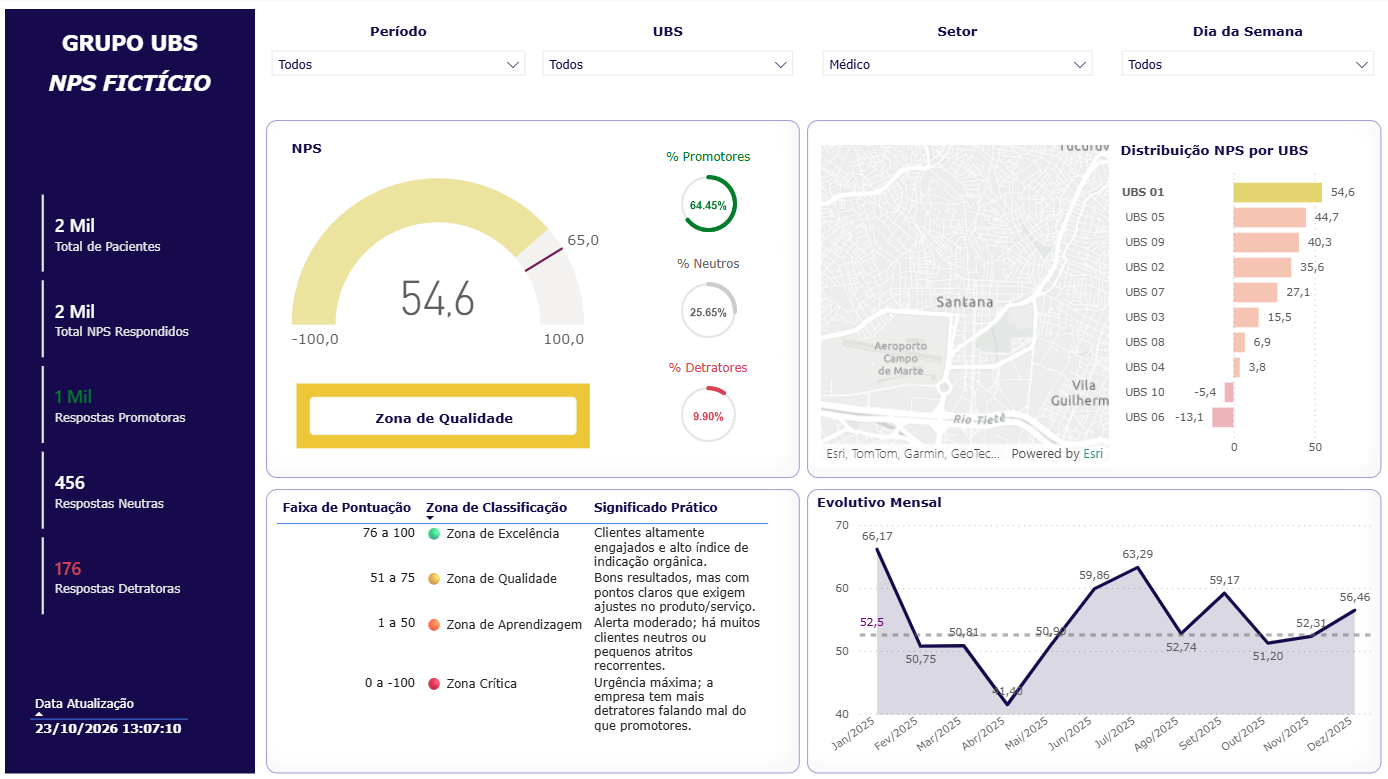

This screenshot's page, from the dashboard's own definition file:
{"tool":"powerbi","page":{"name":"Gerencial","canvas":[1280,720],"ordinal":0},"visuals":[{"type":"shape","box":[740.1,112,523.5,325.9],"z":0},{"type":"shape","box":[247.6,112,486.1,325.9],"z":1000},{"type":"shape","box":[10,10.9,227.6,696.4],"z":2000},{"type":"slicer","title":"UBS","fields":{"Values":["DIM_UBS.Zona","DIM_UBS.Bairro","DIM_UBS.Nome UBS"]},"box":[493.4,13.7,240,90],"z":3000},{"type":"gauge","fields":{"Y":["@Medidas.NPS"]},"box":[265.8,130.2,295.9,213.9],"z":4000},{"type":"clusteredBarChart","title":"Distribuição NPS por UBS","fields":{"Category":["DIM_UBS.Nome UBS"],"Y":["@Medidas.NPS"]},"box":[1020.5,132,230.3,294.1],"z":5000},{"type":"cardVisual","fields":{"Data":["@Medidas.Total de Pacientes","@Medidas.Total NPS Respondidos","@Medidas.Promotores","@Medidas.Neutros","@Medidas.Detratores"]},"box":[26.4,163,194.8,420.6],"z":6000},{"type":"tableEx","fields":{"Values":["DIM_NPS_LEGENDA.Faixa de Pontuação","DIM_NPS_LEGENDA.Zona de Classificação","DIM_NPS_LEGENDA.Significado Prático"]},"box":[247.6,447.9,486.1,259.5],"z":7000},{"type":"textbox","box":[14.6,25.5,217.6,78.3],"z":8000},{"type":"slicer","title":"Setor","fields":{"Values":["FATO_NPS.setor"]},"box":[748.3,13.7,257.6,90.1],"z":9000},{"type":"areaChart","title":"Evolutivo Mensal","fields":{"Category":["DIM_CALENDARIO.Mês/Ano"],"Y":["@Medidas.NPS"]},"box":[740.1,447.9,523.5,259.5],"z":10000},{"type":"slicer","title":"Período","fields":{"Values":["DIM_CALENDARIO.Ano","DIM_CALENDARIO.Mês/Ano"]},"box":[246.7,13.5,243.1,90.1],"z":11000},{"type":"slicer","title":"Dia da Semana","fields":{"Values":["DIM_CALENDARIO.Dia da Semana"]},"box":[1020.5,13.5,242,90],"z":12000},{"type":"payPalKPIDonutChart55A431AB15A540ED924ACD72ED8D259F","fields":{"myvalue":["@Medidas.% Promotores"]},"box":[581.7,138.4,136.6,85.6],"z":13000},{"type":"payPalKPIDonutChart55A431AB15A540ED924ACD72ED8D259F","fields":{"myvalue":["@Medidas.% Neutros"]},"box":[581.7,235.8,136.6,85.6],"z":14000},{"type":"payPalKPIDonutChart55A431AB15A540ED924ACD72ED8D259F","fields":{"myvalue":["@Medidas.% Detratores"]},"box":[581.7,330.5,136.6,85.6],"z":15000},{"type":"esriVisual","title":"Localização","fields":{"Location":["DIM_UBS.Endereço Completo"],"Size":["@Medidas.NPS"]},"box":[748.3,130.2,272.2,297.7],"z":16000},{"type":"tableEx","fields":{"Values":["DATA_ATUALIZAÇÃO.Data_Atualizacao"]},"box":[26.4,630,182.1,61.9],"z":17000},{"type":"cardVisual","fields":{"Data":["@Medidas.Zona_NPS"]},"box":[270.4,346.9,277.7,69.2],"z":18000}]}

Visuals, with their boxes in screenshot pixels (x1, y1, x2, y2), scaled from the page's 1280x720 canvas onto the 1388x779 screenshot:
shape: {"left": 803, "top": 121, "right": 1370, "bottom": 474}
shape: {"left": 268, "top": 121, "right": 796, "bottom": 474}
shape: {"left": 11, "top": 12, "right": 258, "bottom": 765}
"UBS" slicer: {"left": 535, "top": 15, "right": 795, "bottom": 112}
gauge - @Medidas.NPS: {"left": 288, "top": 141, "right": 609, "bottom": 372}
"Distribuição NPS por UBS" clusteredBarChart: {"left": 1107, "top": 143, "right": 1356, "bottom": 461}
cardVisual - @Medidas.Total de Pacientes x @Medidas.Total NPS Respondidos: {"left": 29, "top": 176, "right": 240, "bottom": 631}
tableEx - DIM_NPS_LEGENDA.Faixa de Pontuação x DIM_NPS_LEGENDA.Zona de Classificação: {"left": 268, "top": 485, "right": 796, "bottom": 765}
textbox: {"left": 16, "top": 28, "right": 252, "bottom": 112}
"Setor" slicer: {"left": 811, "top": 15, "right": 1091, "bottom": 112}
"Evolutivo Mensal" areaChart: {"left": 803, "top": 485, "right": 1370, "bottom": 765}
"Período" slicer: {"left": 268, "top": 15, "right": 531, "bottom": 112}
"Dia da Semana" slicer: {"left": 1107, "top": 15, "right": 1369, "bottom": 112}
payPalKPIDonutChart55A431AB15A540ED924ACD72ED8D259F - @Medidas.% Promotores: {"left": 631, "top": 150, "right": 779, "bottom": 242}
payPalKPIDonutChart55A431AB15A540ED924ACD72ED8D259F - @Medidas.% Neutros: {"left": 631, "top": 255, "right": 779, "bottom": 348}
payPalKPIDonutChart55A431AB15A540ED924ACD72ED8D259F - @Medidas.% Detratores: {"left": 631, "top": 358, "right": 779, "bottom": 450}
"Localização" esriVisual: {"left": 811, "top": 141, "right": 1107, "bottom": 463}
tableEx - DATA_ATUALIZAÇÃO.Data_Atualizacao: {"left": 29, "top": 682, "right": 226, "bottom": 749}
cardVisual - @Medidas.Zona_NPS: {"left": 293, "top": 375, "right": 594, "bottom": 450}
